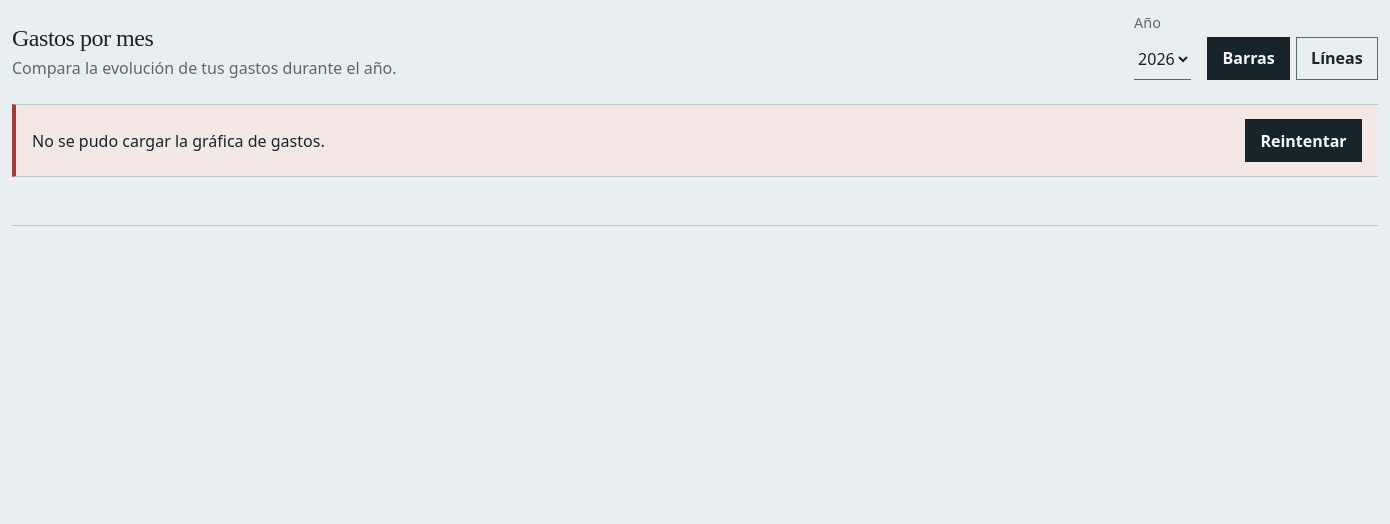
ChartSection › shows an error and retries
The width and height of the screenshot is (1390, 524).
expect the message shows "No se pudo cargar la gráfica de gastos.": met, box top-left (32, 130), bottom-right (325, 152)
Click the button "Reintentar": [1304, 141] box top-left (1245, 119), bottom-right (1362, 162)
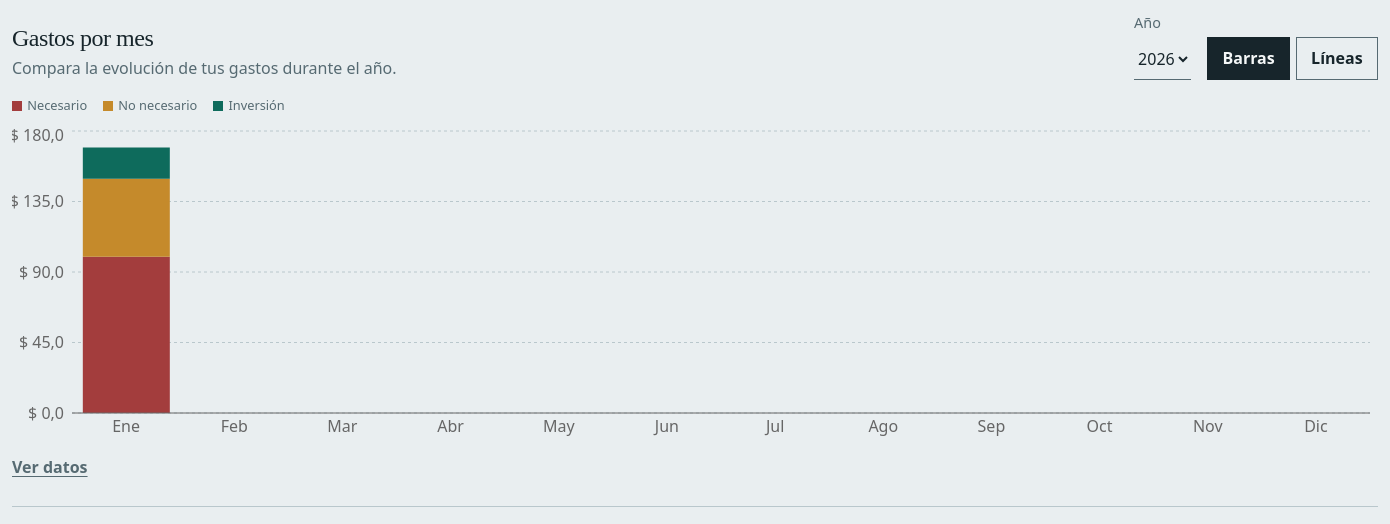
expect the picture named "barras apiladas" is shown: met
